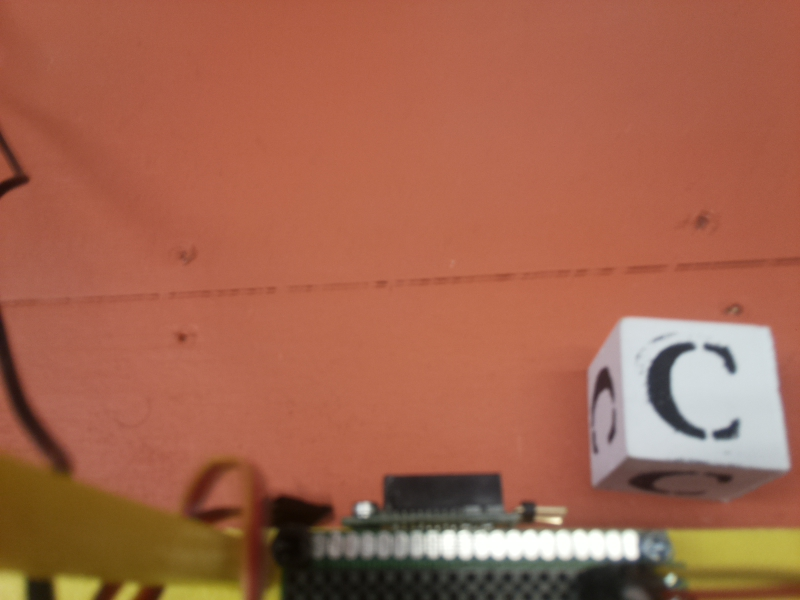blockC: (582, 316, 791, 505)
